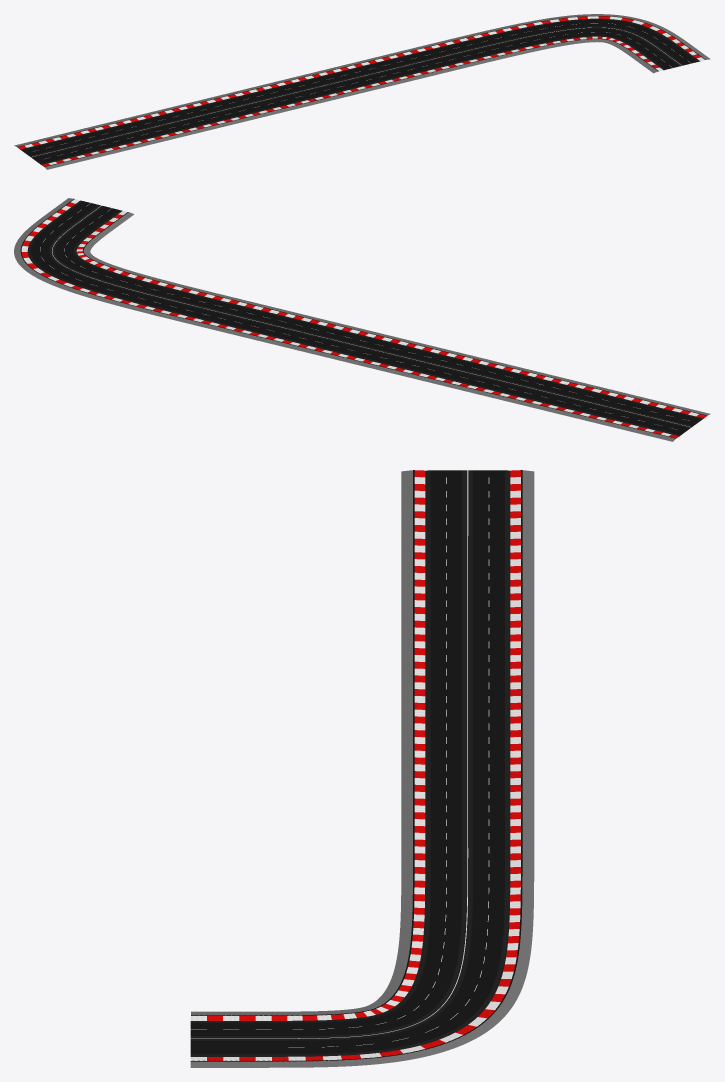
3 views of the same model, one above another, from view 1: azimuth 30°, elevation 25°; view 2: azimuth 150°, elevation 25°; view 3: azimuth 270°, elevation 25° (orthographic). The views are drawn at different scales.
Visible parts, largest first — view 1: Grid; view 2: Grid; view 3: Grid.
Boxes of the visible parts, x1,y1,x2,y2 form: Grid: [14, 14, 710, 169]; Grid: [14, 198, 710, 441]; Grid: [190, 470, 534, 1067].
Bounding box in the file's own units: 265 × 0.31 × 64.61.
